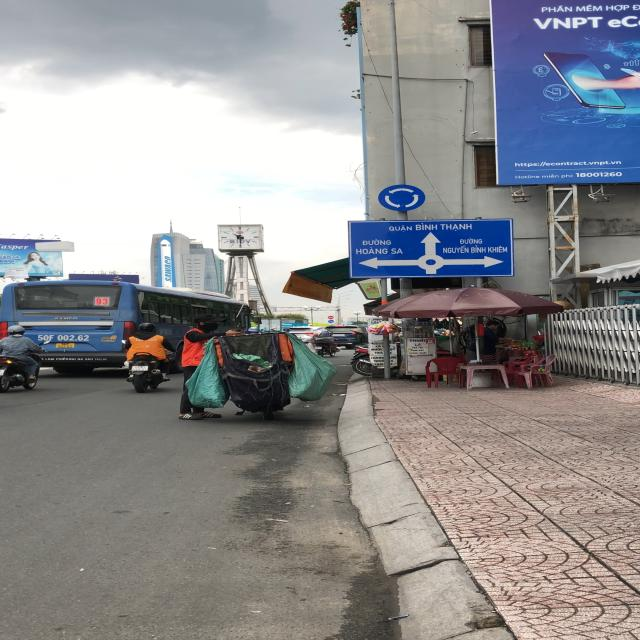Bien bao noi giao nhau chay theo vong xuyen: (377, 183, 435, 213)
